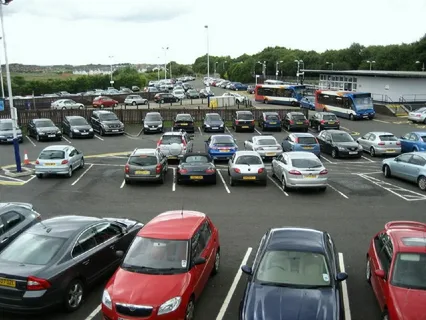Car: (0, 215, 143, 313), (101, 210, 220, 320), (239, 227, 348, 320), (366, 220, 426, 320), (271, 151, 328, 190), (0, 202, 41, 250), (315, 90, 375, 120), (382, 152, 426, 191), (34, 145, 85, 178), (124, 148, 168, 183), (228, 150, 267, 186), (175, 152, 217, 184), (317, 130, 362, 158), (357, 131, 401, 157), (255, 84, 305, 106), (157, 131, 193, 161), (244, 135, 283, 161), (282, 133, 320, 157), (90, 110, 124, 135), (206, 135, 238, 160), (28, 118, 62, 141), (62, 117, 94, 138), (0, 119, 23, 144), (400, 130, 426, 152), (310, 112, 340, 131), (233, 110, 255, 132), (284, 112, 309, 131), (143, 112, 164, 134), (173, 113, 195, 133), (203, 112, 225, 132), (260, 112, 282, 131), (51, 99, 84, 110), (407, 105, 426, 124), (92, 96, 118, 108), (222, 92, 247, 104), (124, 95, 148, 106), (154, 93, 179, 103), (300, 97, 314, 110), (227, 82, 246, 91), (173, 90, 185, 100), (144, 86, 159, 93), (187, 90, 199, 98), (200, 89, 208, 98), (220, 81, 229, 88), (216, 80, 223, 86), (210, 79, 216, 86), (132, 86, 140, 91)
